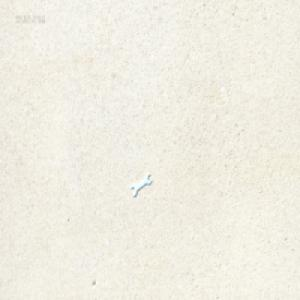Wrench: (131, 172, 152, 198)
